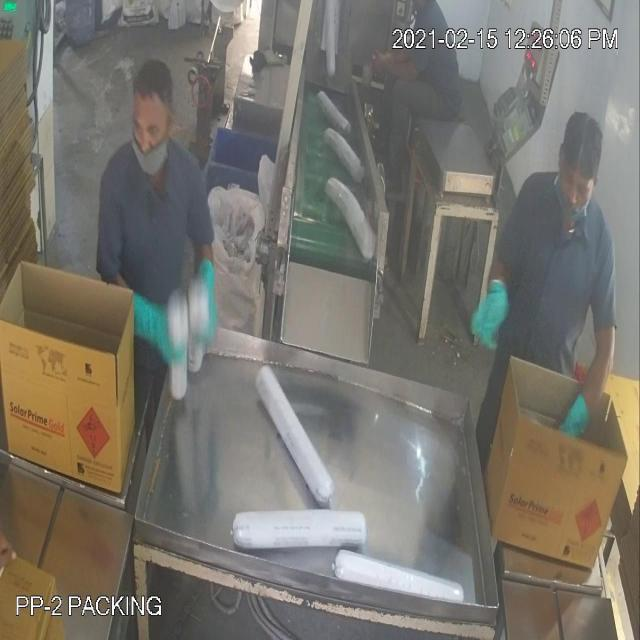Gloves: (52, 41, 477, 312)
